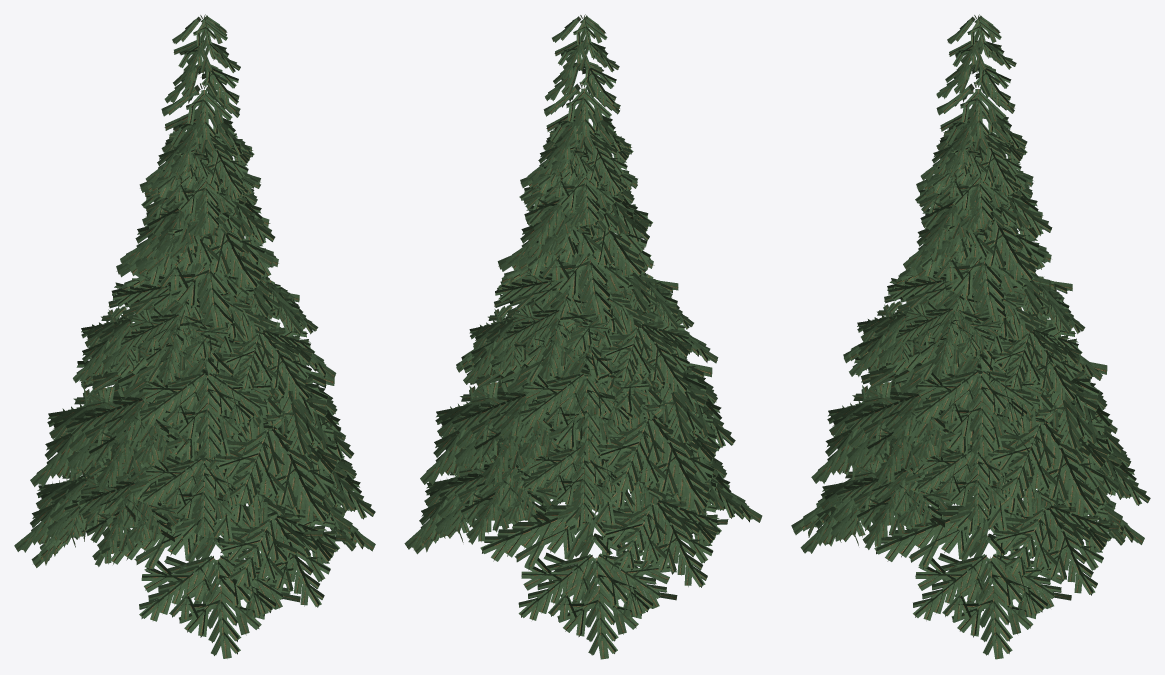
The model's file is Leaf.FBX.
The picture shows the model from 3 angles, left to right: view 1: azimuth 30°, elevation 25°; view 2: azimuth 150°, elevation 25°; view 3: azimuth 270°, elevation 25°; orthographic projection.
Visible parts, largest first — view 1: obj1; view 2: obj1; view 3: obj1.
Boxes of the visible parts, bbox=[...] form: obj1: bbox=[14, 14, 375, 658]; obj1: bbox=[404, 14, 762, 659]; obj1: bbox=[791, 14, 1150, 659].
Bounding box in the file's own units: 3.23 × 5.62 × 3.2.
